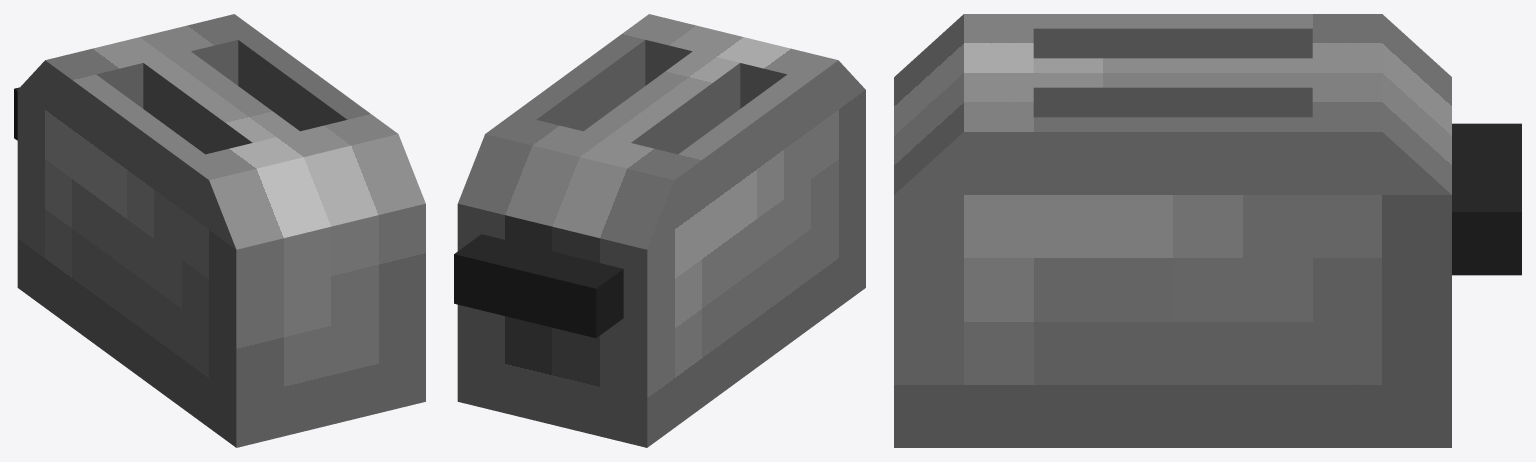
The model's file is toaster_iron.obj.
The picture shows the model from 3 angles, left to right: view 1: azimuth 30°, elevation 25°; view 2: azimuth 150°, elevation 25°; view 3: azimuth 270°, elevation 25°; orthographic projection. The views are drawn at different scales.
Visible parts, largest first — view 1: Plane; view 2: Plane; view 3: Plane.
Boxes of the visible parts, x1,y1,x2,y2 form: Plane: (14, 14, 425, 447); Plane: (454, 14, 865, 447); Plane: (894, 14, 1521, 447).
Bounding box in the file's own units: 0.25 × 0.3125 × 0.5625.
